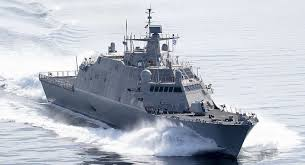tau_muctieu: (41, 32, 250, 158)
